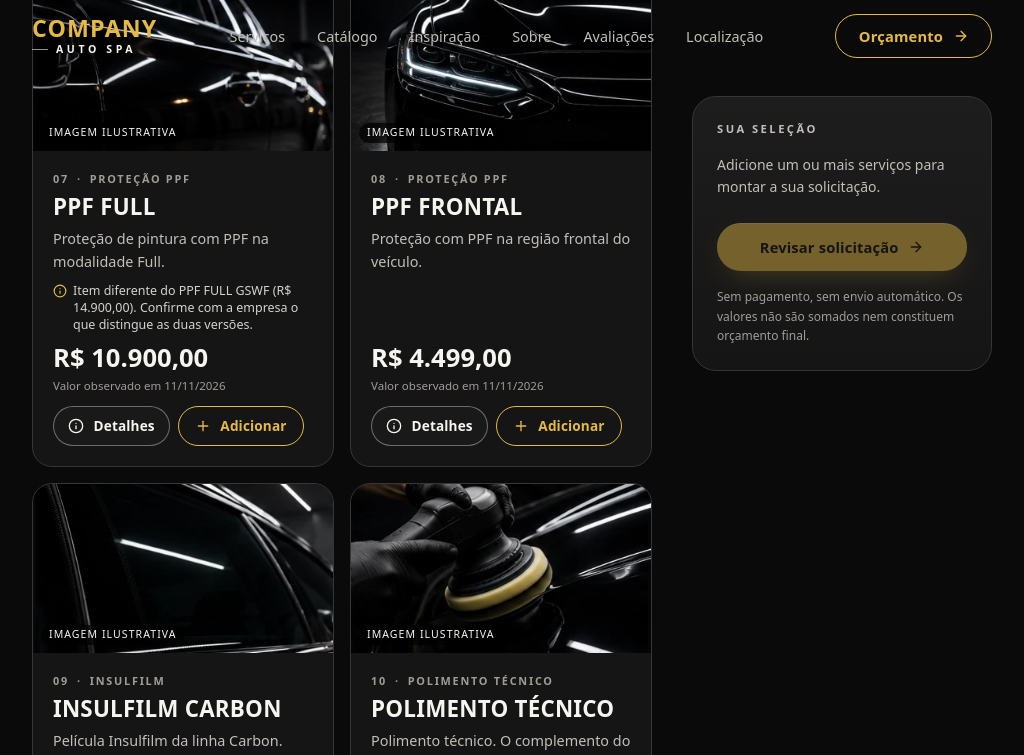
Scenario: App › seleciona serviços, preenche veículo e copia a mensagem
(page scrolled)
Click the button "Adicionar" below "07" at (241, 426), box x1=178 y1=406 x2=304 y2=446
(page scrolled)
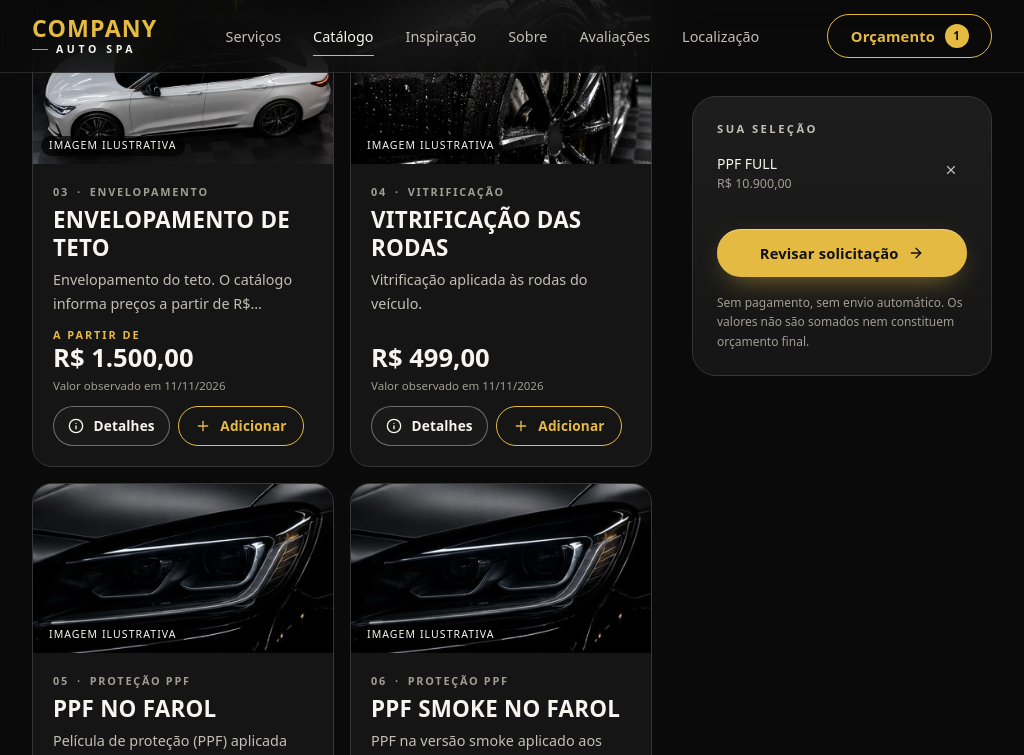
Click the button "Adicionar" below "03" at (241, 426), box x1=178 y1=406 x2=304 y2=446
(page scrolled)
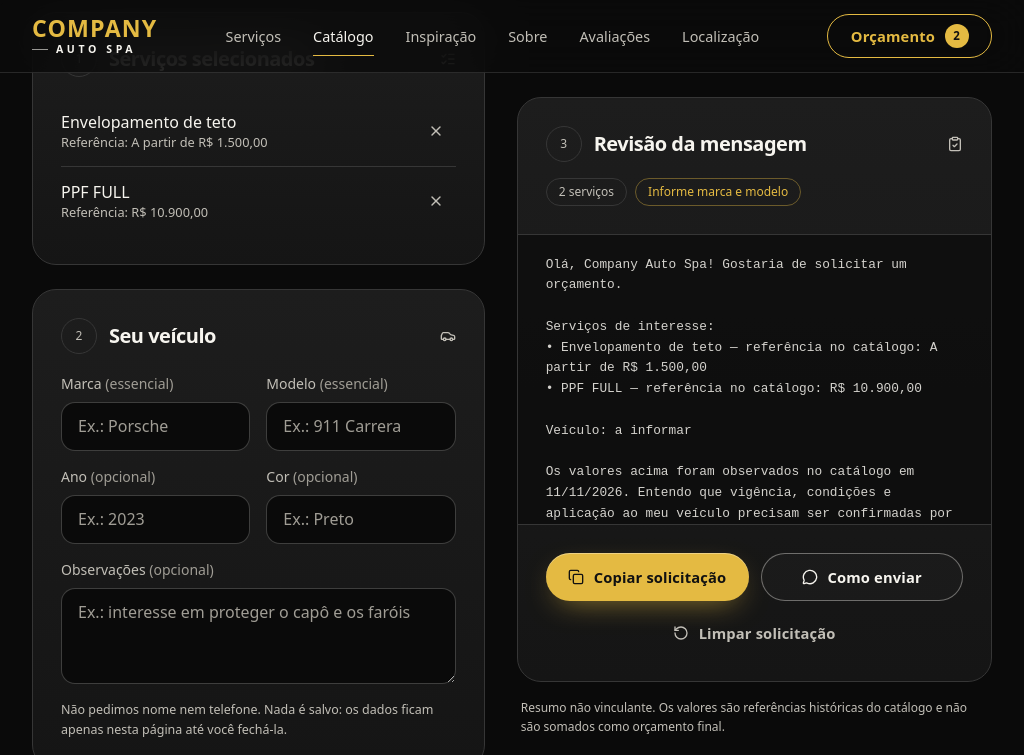
Type "BMW" into the field with placeholder "Ex.: Porsche" at (156, 426), box x1=61 y1=402 x2=250 y2=451
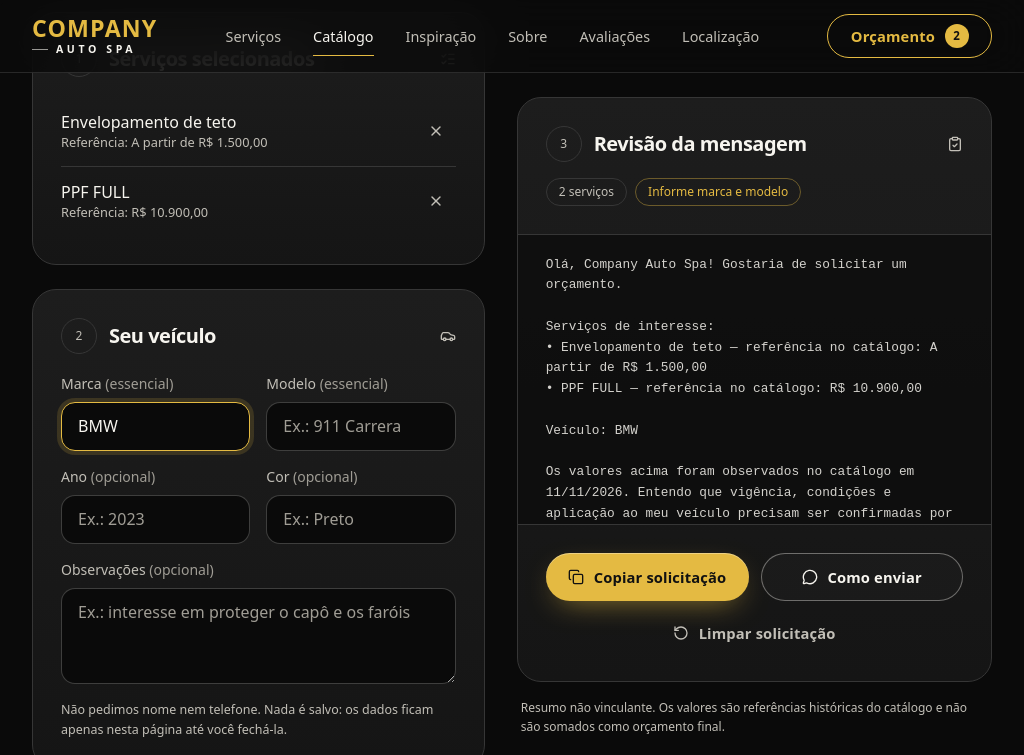
Type "M3" into the field with placeholder "Ex.: 911 Carrera" at (361, 426), box x1=266 y1=402 x2=456 y2=451
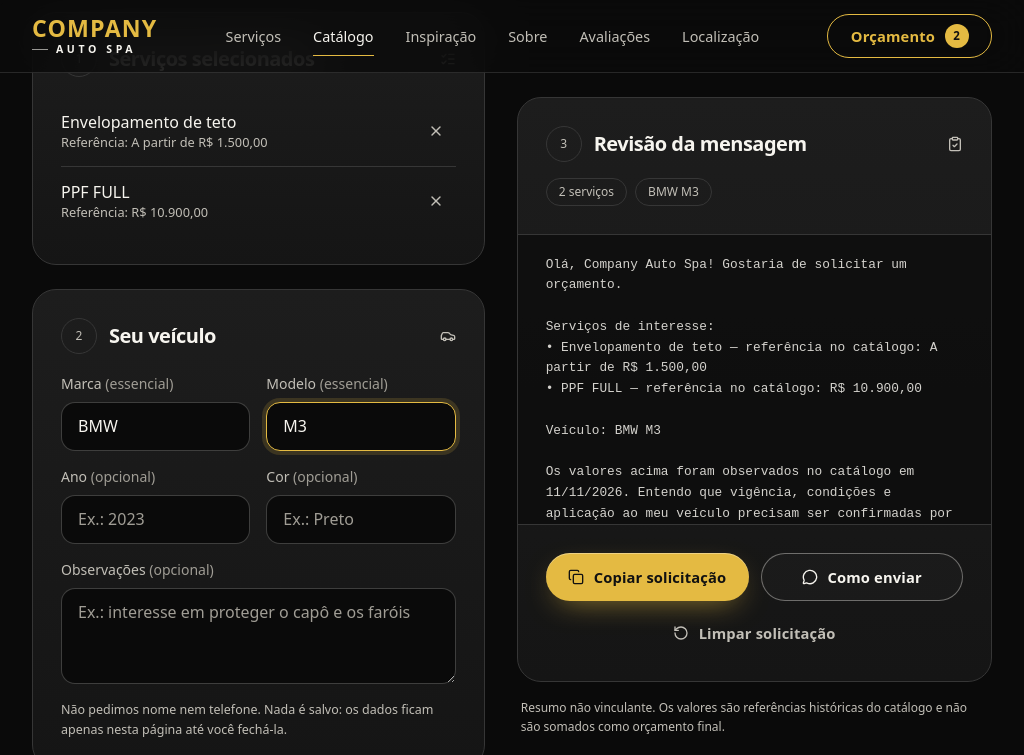
Click the button "Copiar solicitação" at (647, 576), box x1=546 y1=552 x2=749 y2=600
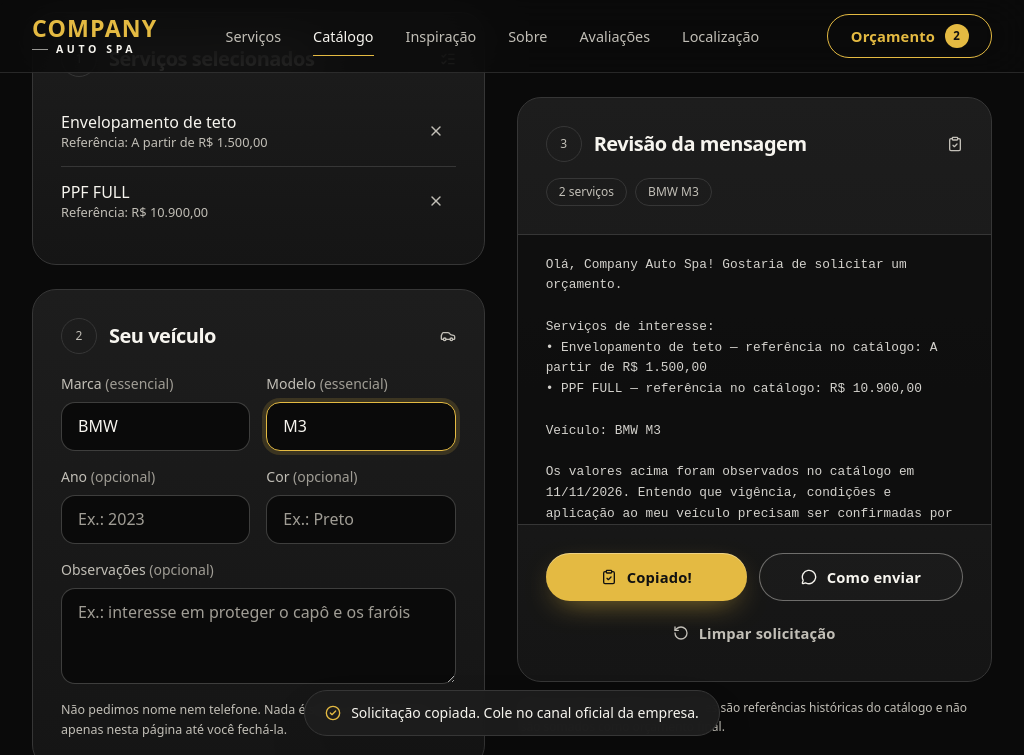
Now the text "Solicitação copiada. Cole no canal oficial da empresa." is shown, box x1=304 y1=690 x2=720 y2=736
